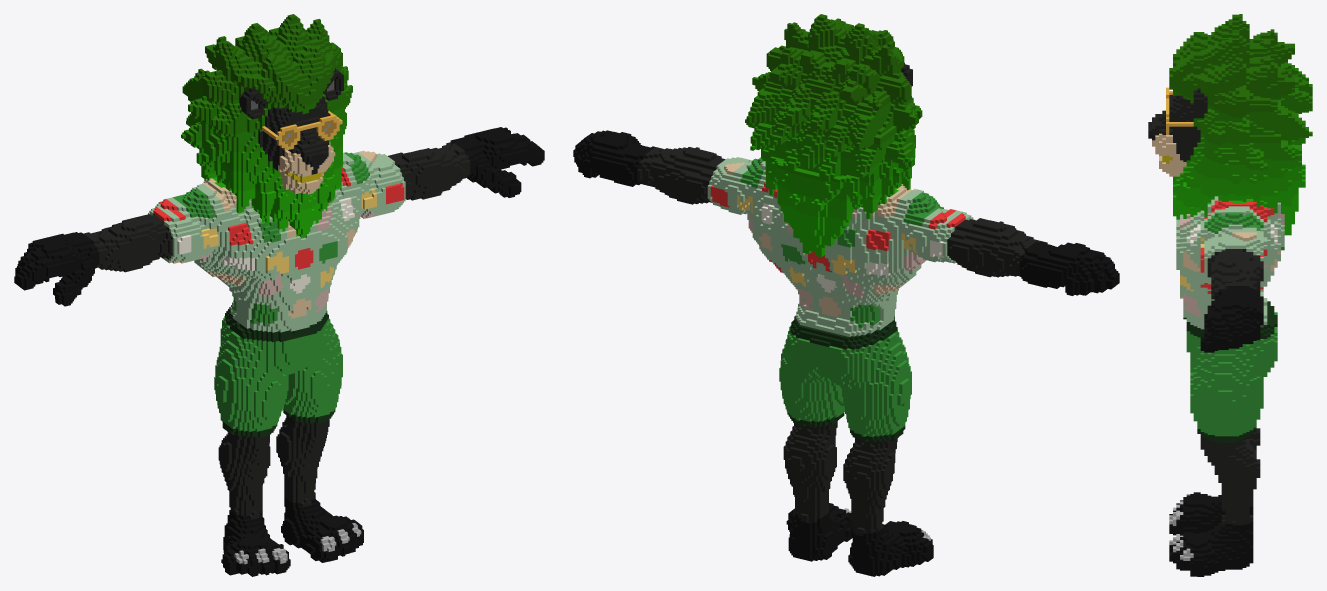
The model's file is 1079-BOmk8FIl.fbx.
3 views of the same model, side by side, from view 1: azimuth 30°, elevation 25°; view 2: azimuth 150°, elevation 25°; view 3: azimuth 270°, elevation 25° (orthographic). The views are drawn at different scales.
Parts seen in each view (by area): view 1: gold_smile; view 2: gold_smile; view 3: gold_smile.
Boxes of the visible parts, x1,y1,x2,y2 form: gold_smile: (14, 14, 544, 576); gold_smile: (573, 14, 1119, 576); gold_smile: (1148, 14, 1312, 576).
Size of the model in its own units: 17.2 by 16.5 by 4.7.
Materials: 5 (5 with a texture image).
